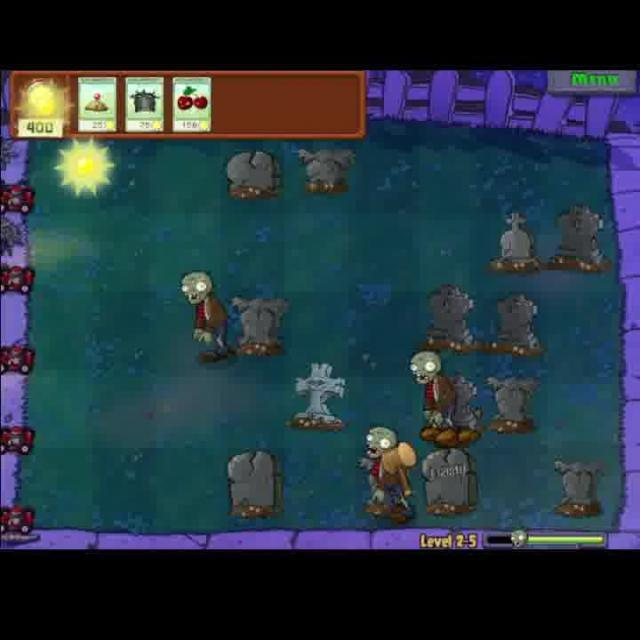sunshine: (56, 139, 119, 199)
zombies: (354, 424, 419, 526), (175, 268, 233, 362), (410, 349, 460, 441)
